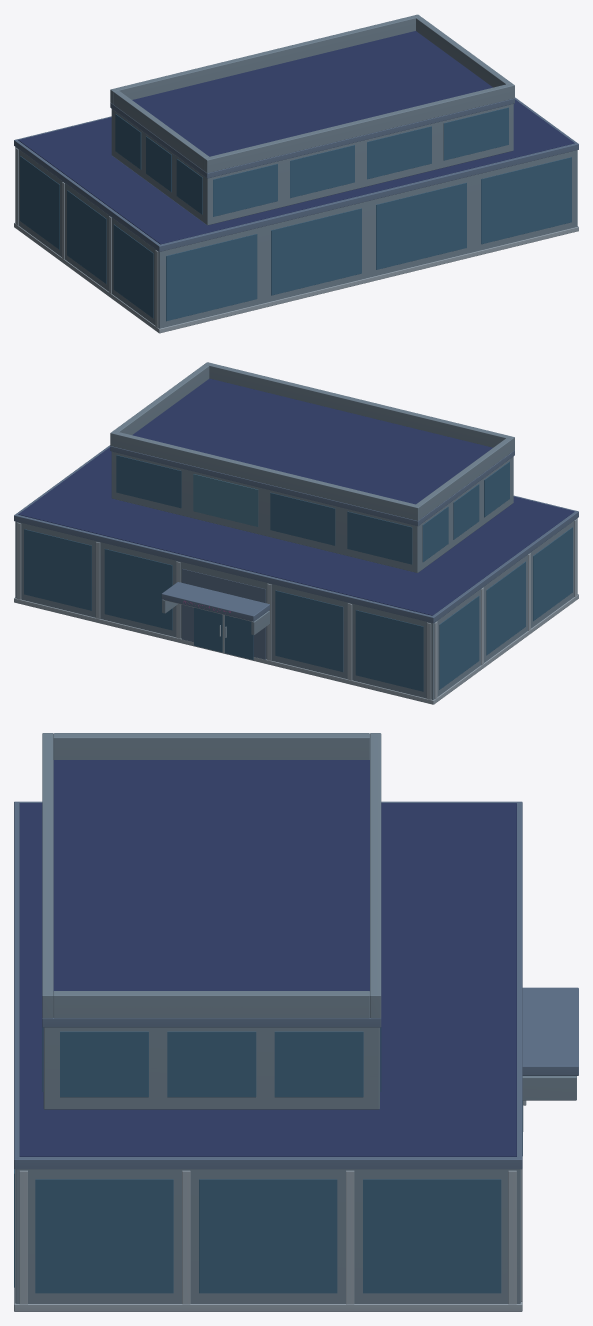
File: d04_podiums_02.glb
The picture shows the model from 3 angles, top to bottom: view 1: azimuth 30°, elevation 25°; view 2: azimuth 150°, elevation 25°; view 3: azimuth 270°, elevation 25°; orthographic projection. The views are drawn at different scales.
Visible parts, largest first — view 1: D04Podiums02_Mesh; view 2: D04Podiums02_Mesh; view 3: D04Podiums02_Mesh.
Part boxes in pixels (left/top/right/bottom): D04Podiums02_Mesh: left=14, top=14, right=578, bottom=333; D04Podiums02_Mesh: left=14, top=362, right=578, bottom=704; D04Podiums02_Mesh: left=14, top=733, right=578, bottom=1311.
Size of the model in its own units: 30 by 10.5 by 20.
